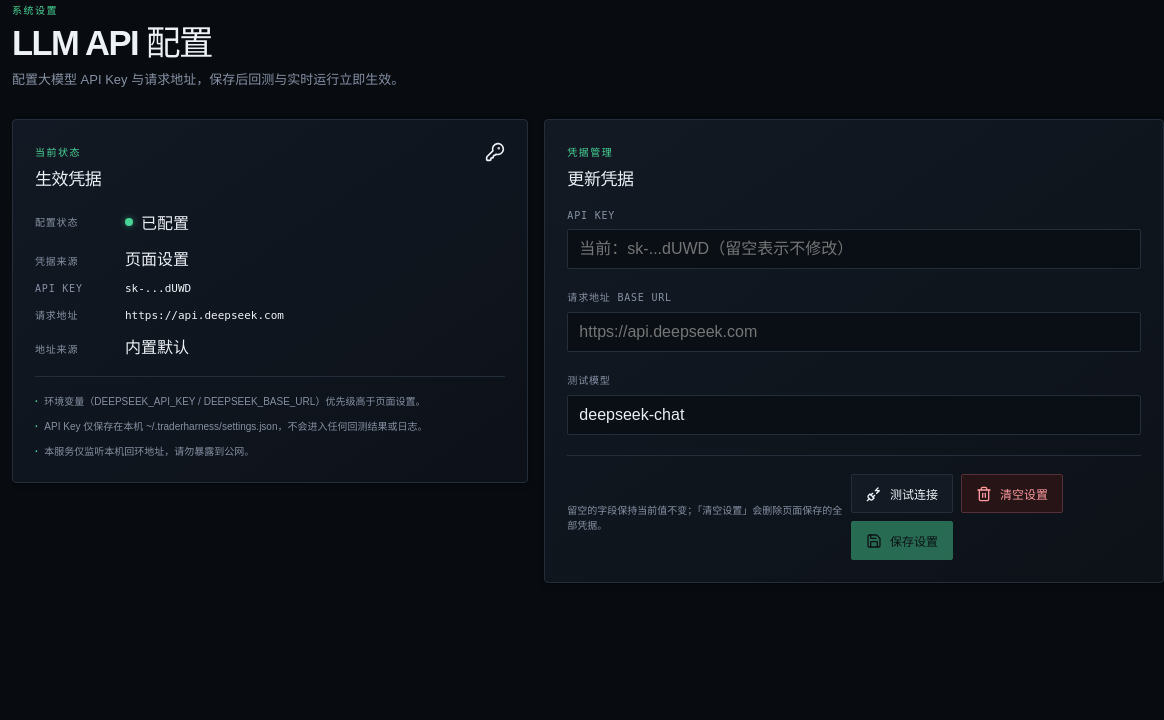
Test: Settings › shows the failure detail when the connection test fails
The image size is (1164, 720).
Expected: the text "已配置" is shown, [125, 215, 189, 232]
Click the button "测试连接" at {"x": 902, "y": 494}, box [851, 474, 953, 513]
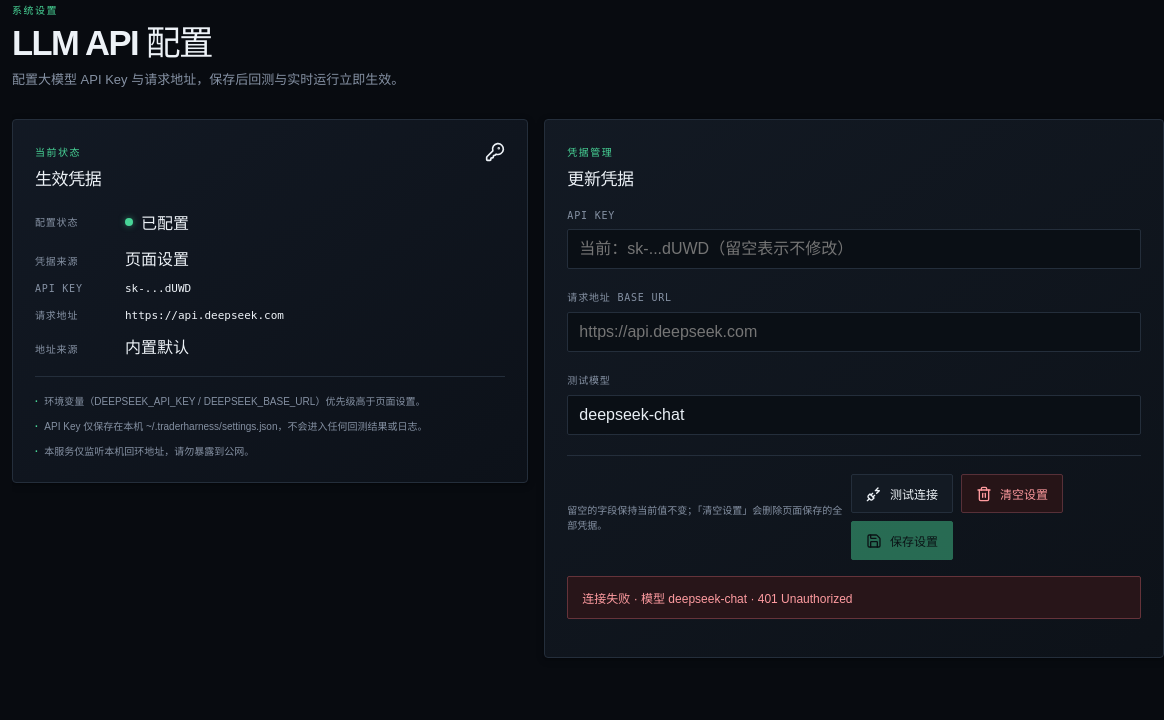
Expected: the text "连接失败 · 模型 deepseek-chat · 401 Unauthorized" is shown, [567, 576, 1141, 619]
